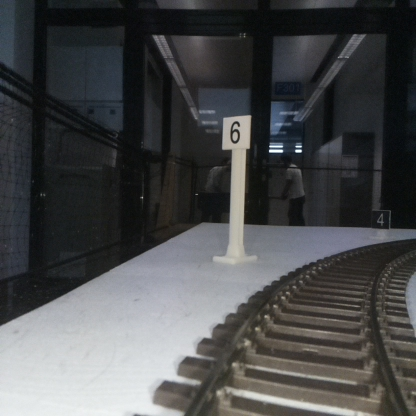black-stop-4: (370, 210, 391, 241)
white-info-6: (222, 115, 250, 262)
